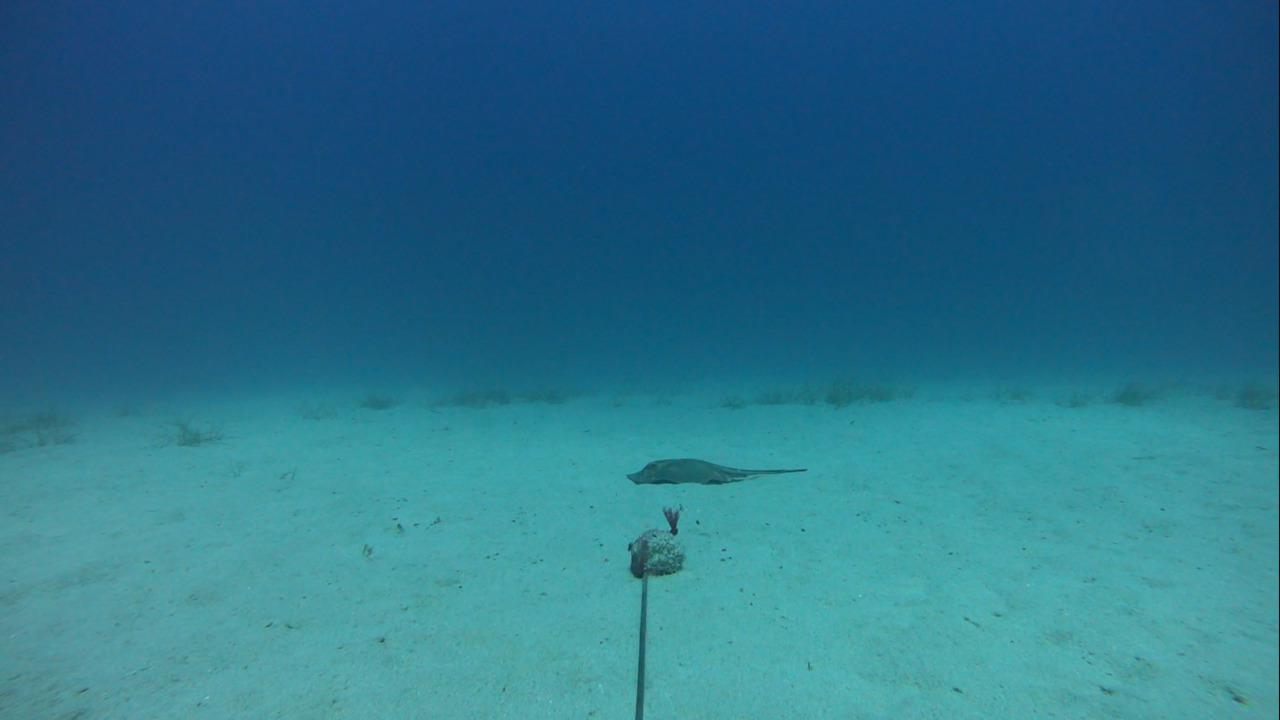myliobatis: (616, 450, 806, 492)
